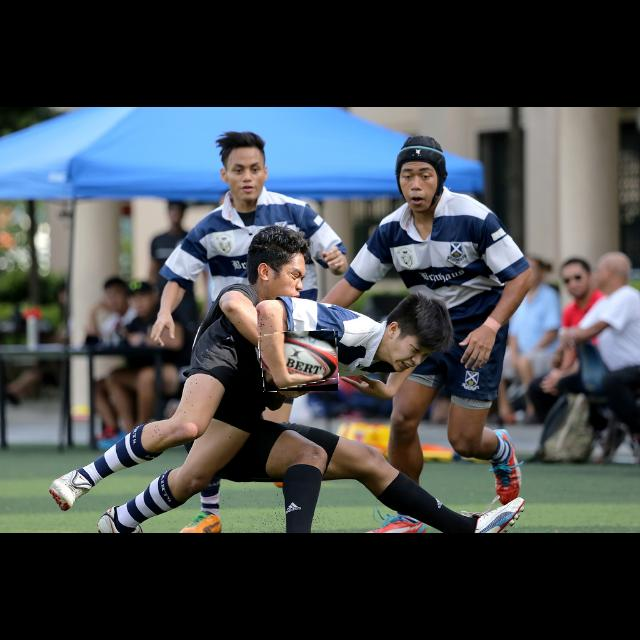Football: (260, 331, 338, 391)
